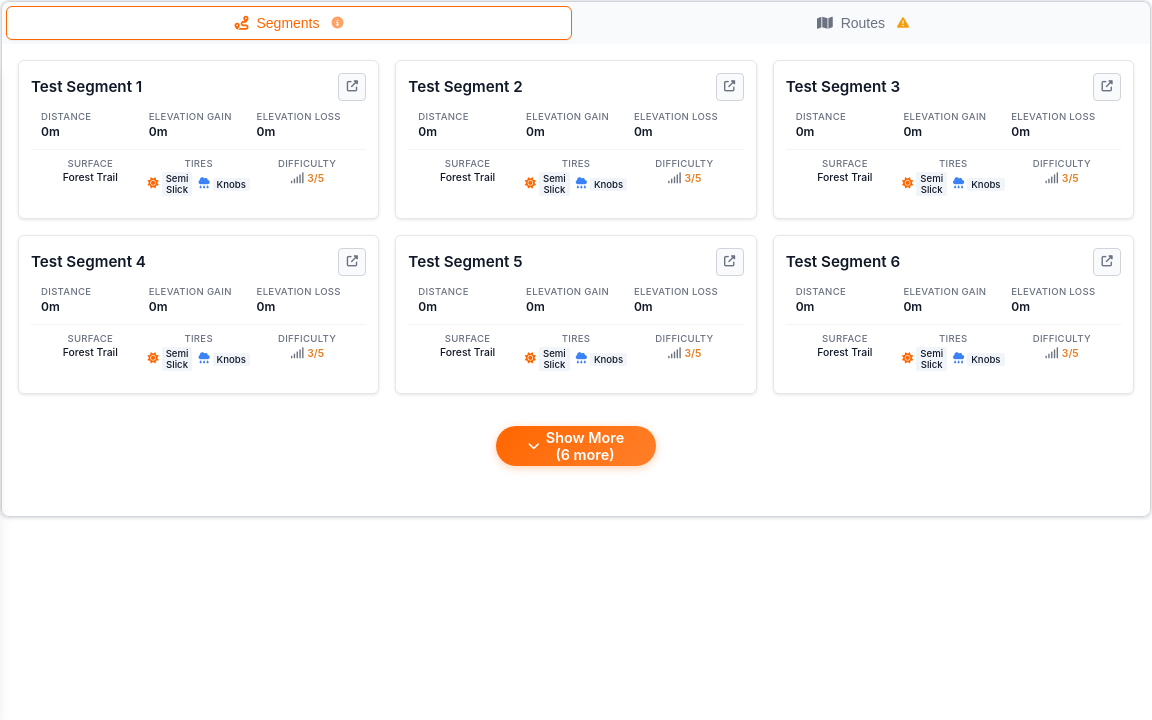
Test: SegmentList › Show More/Less Button Functionality › should expand to show all segments when "Show More" is clicked
Step 1. Click the button with class "show-more-button" → (576,446), box [496,426,656,466]
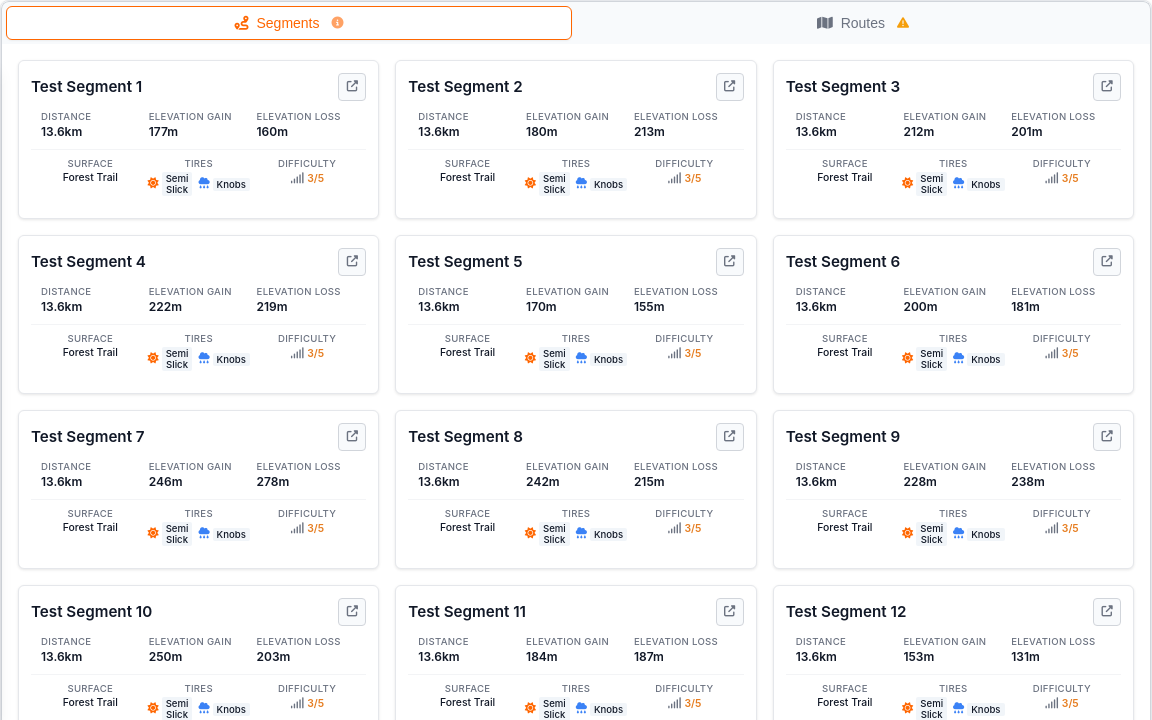
expect the number of elements with class "segment-card" is 12: met
